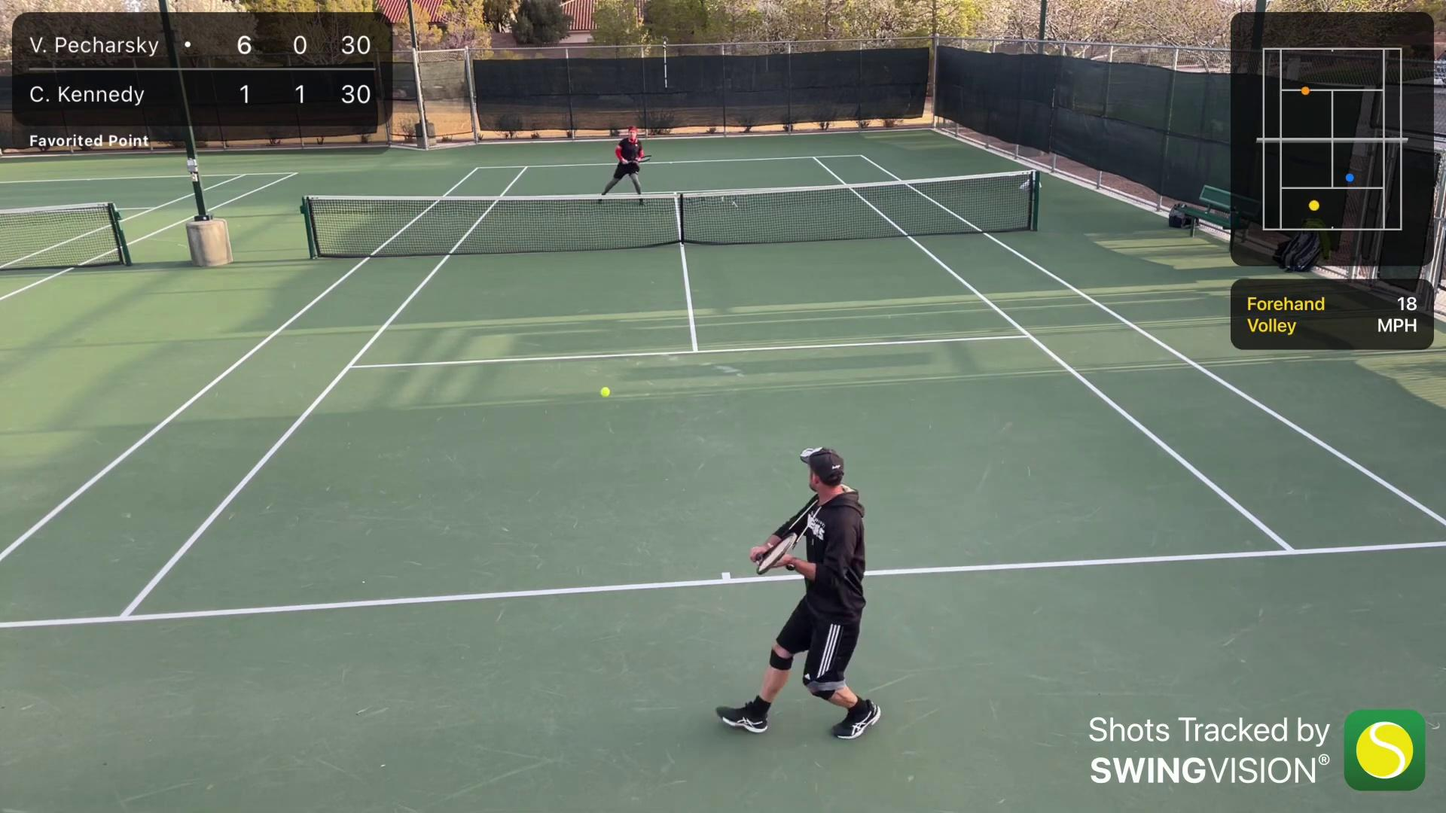ball: (597, 387, 611, 397)
